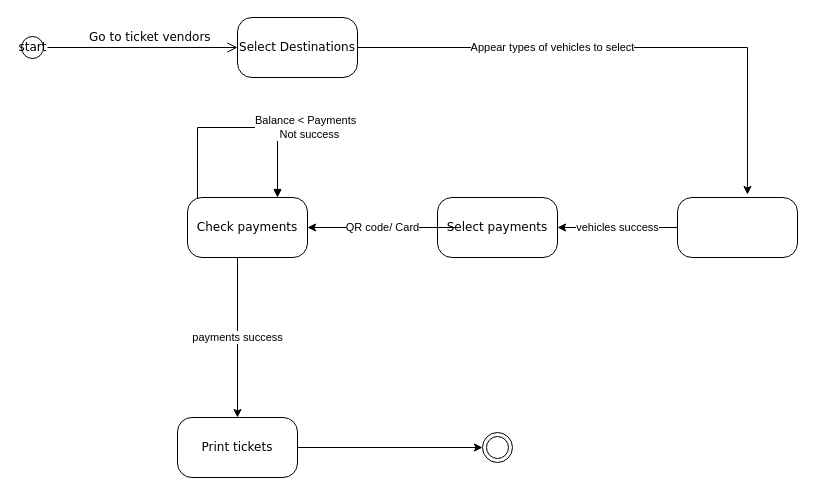
This 815x495 diagram has some shape labels left out. Here are the shapes that lost their labels. From the top down, the box of each, then its label:
(676, 196, 798, 258): select vehicles
(482, 432, 512, 462): End
